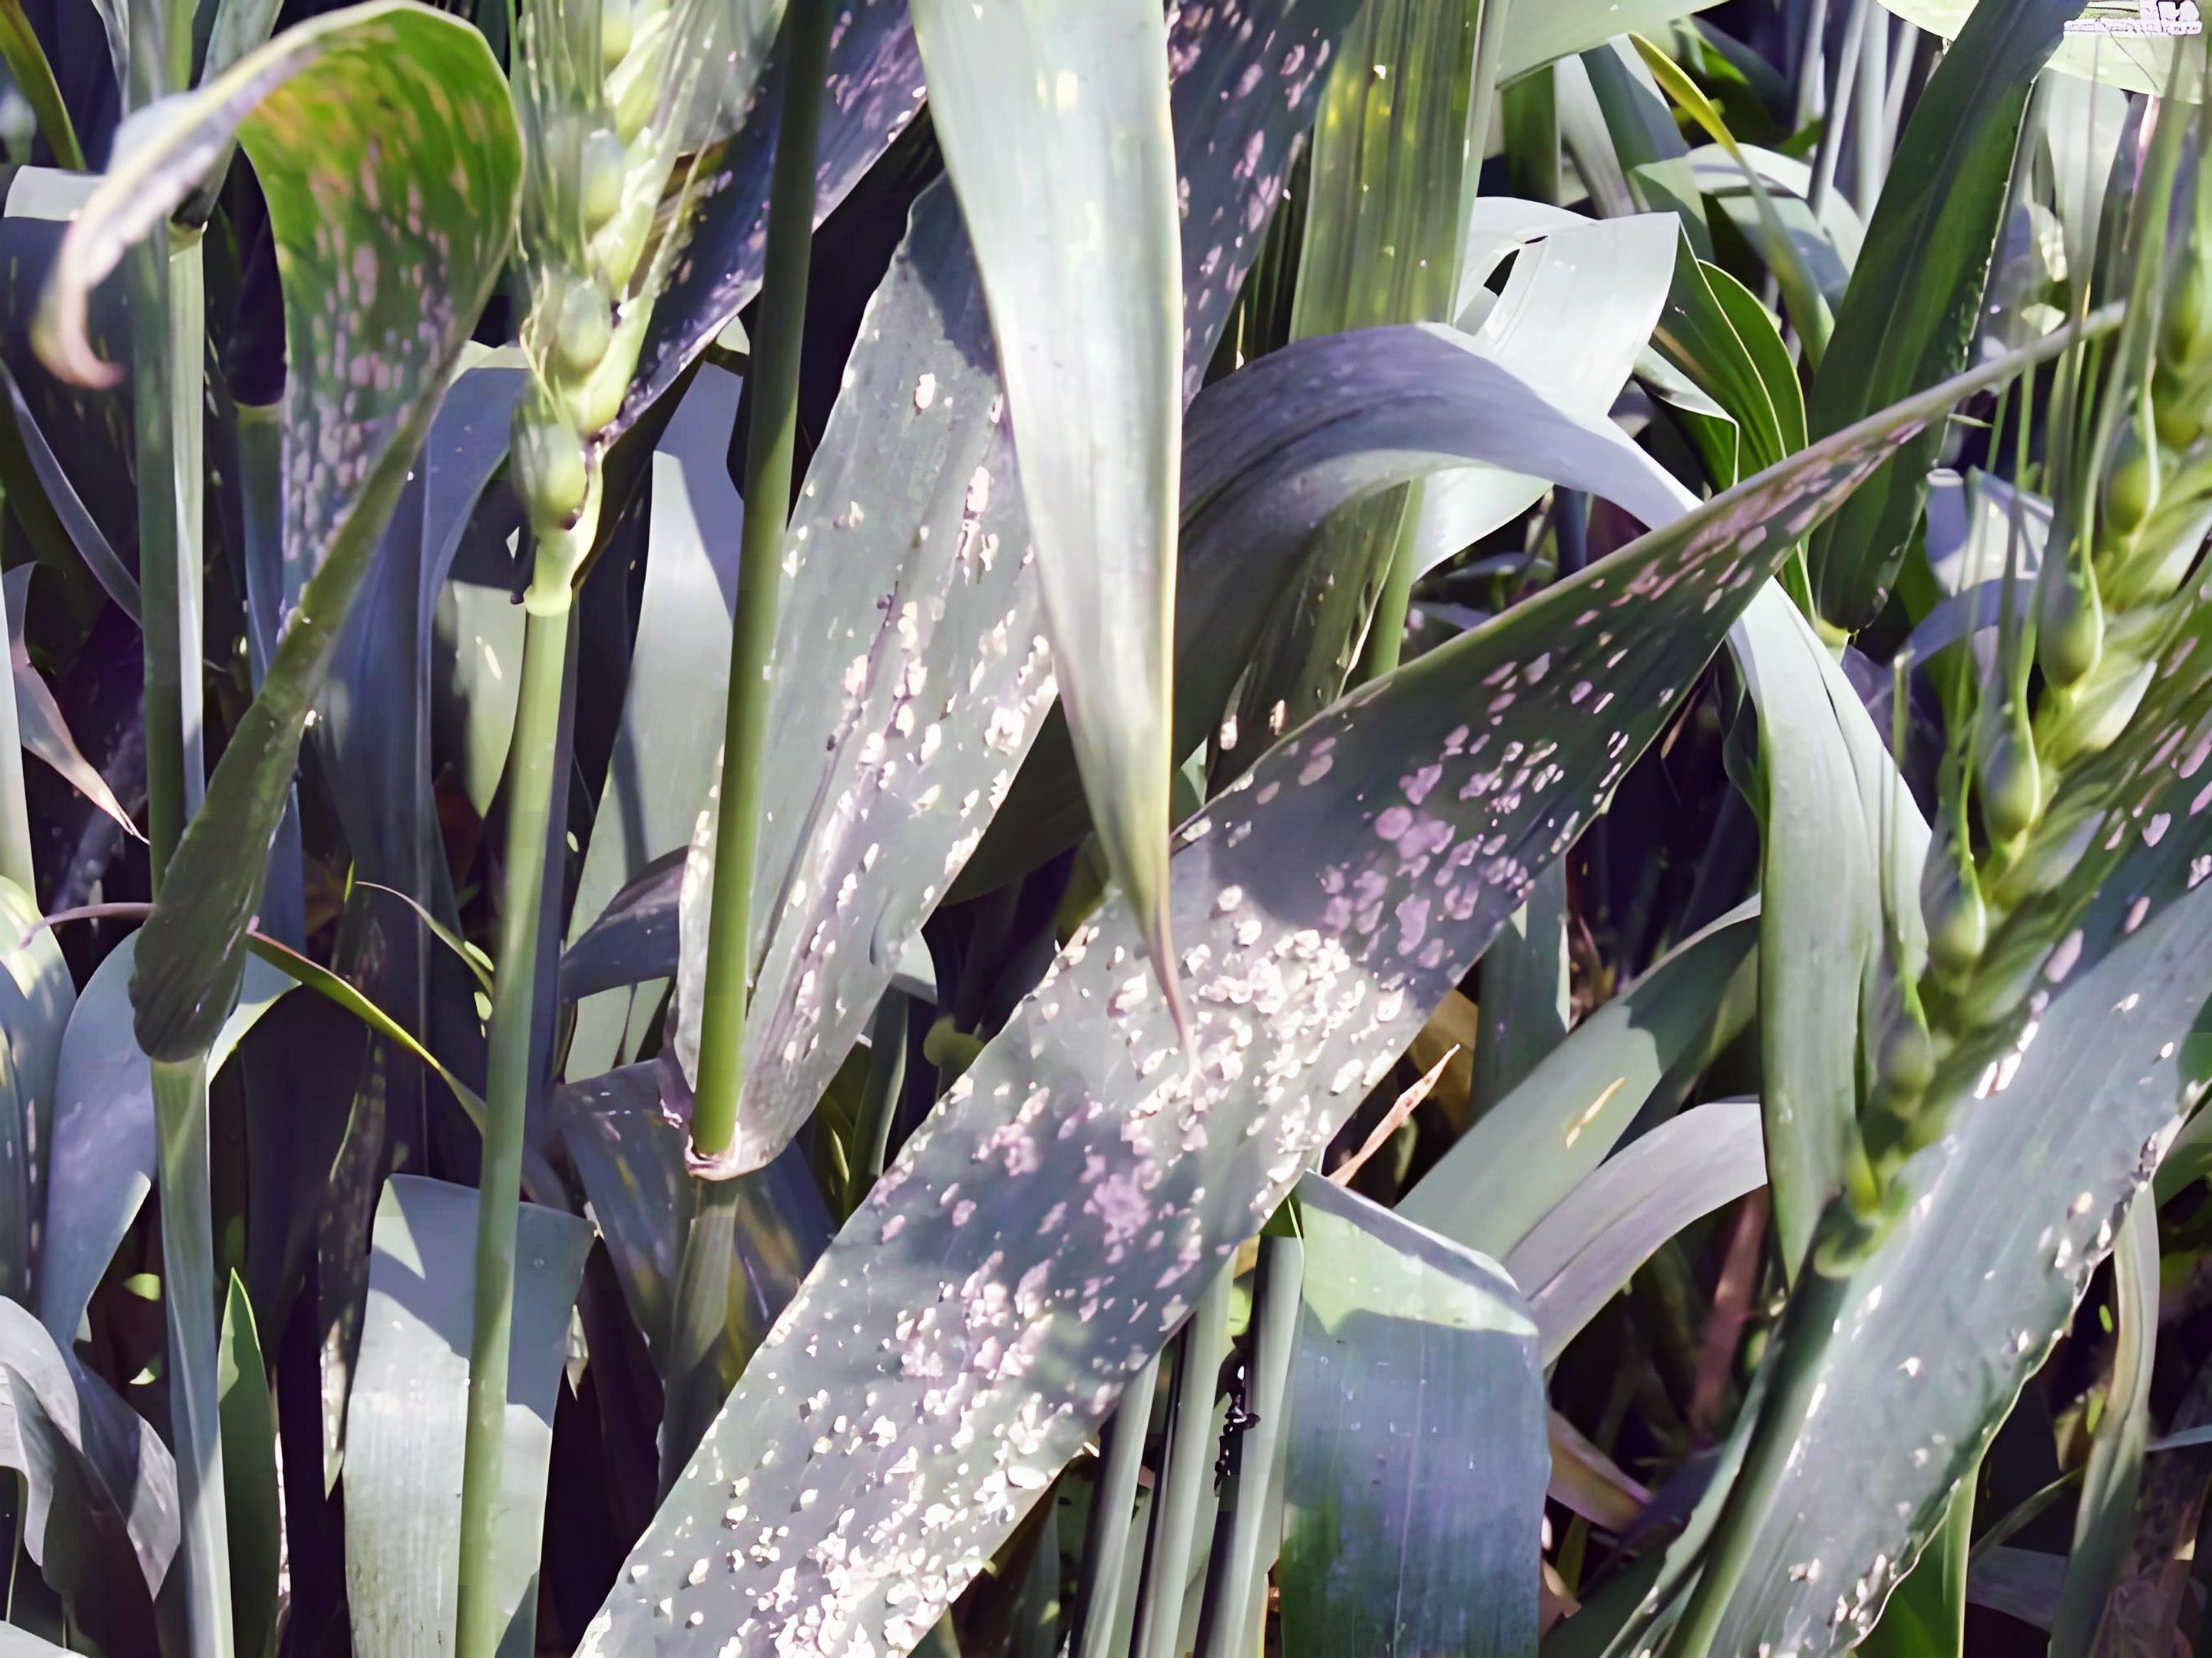Powdery Mildew: (787, 585, 1693, 1625)
